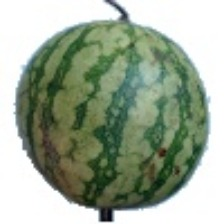watermelon: (13, 44, 197, 201)
